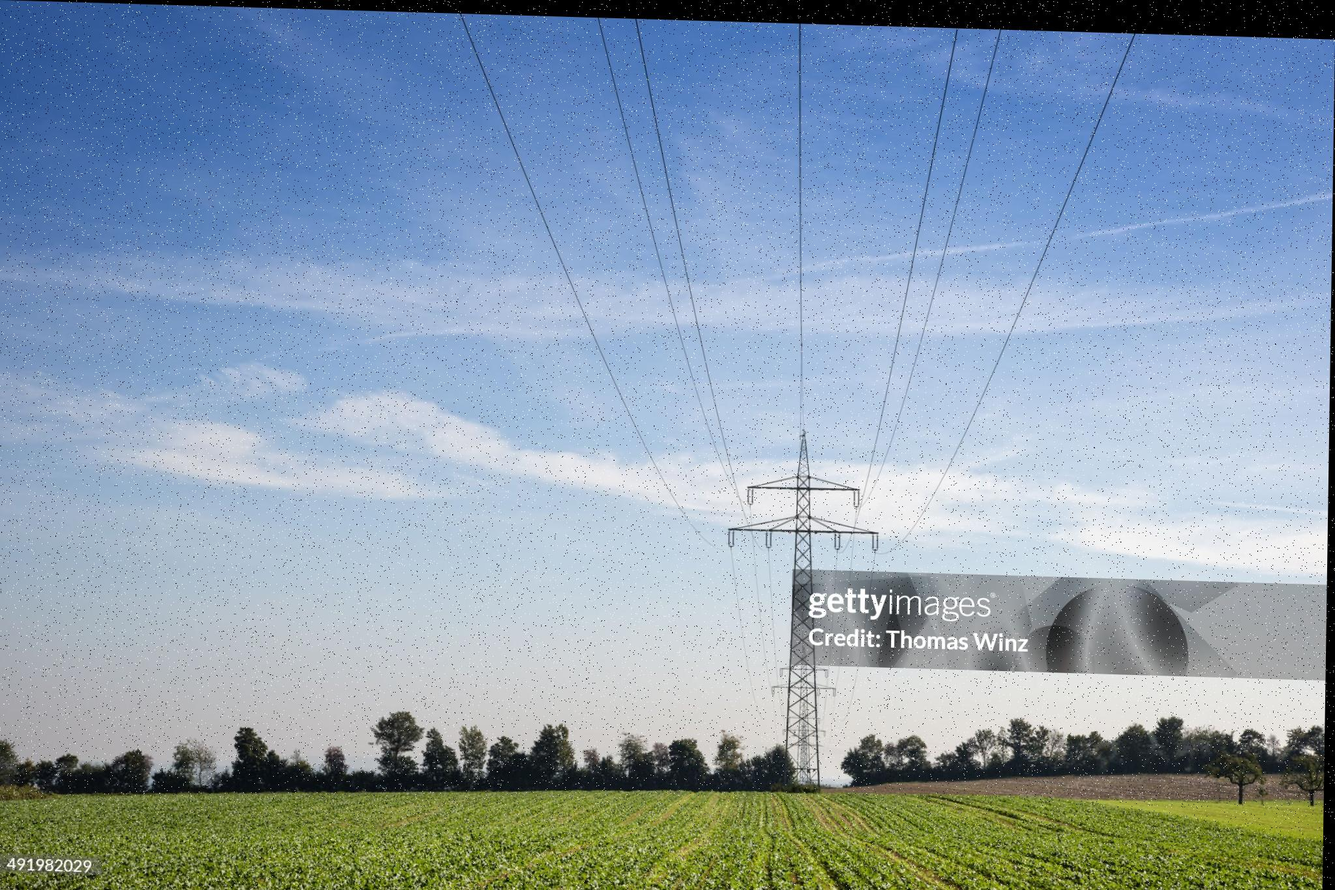tower: (720, 421, 906, 799)
